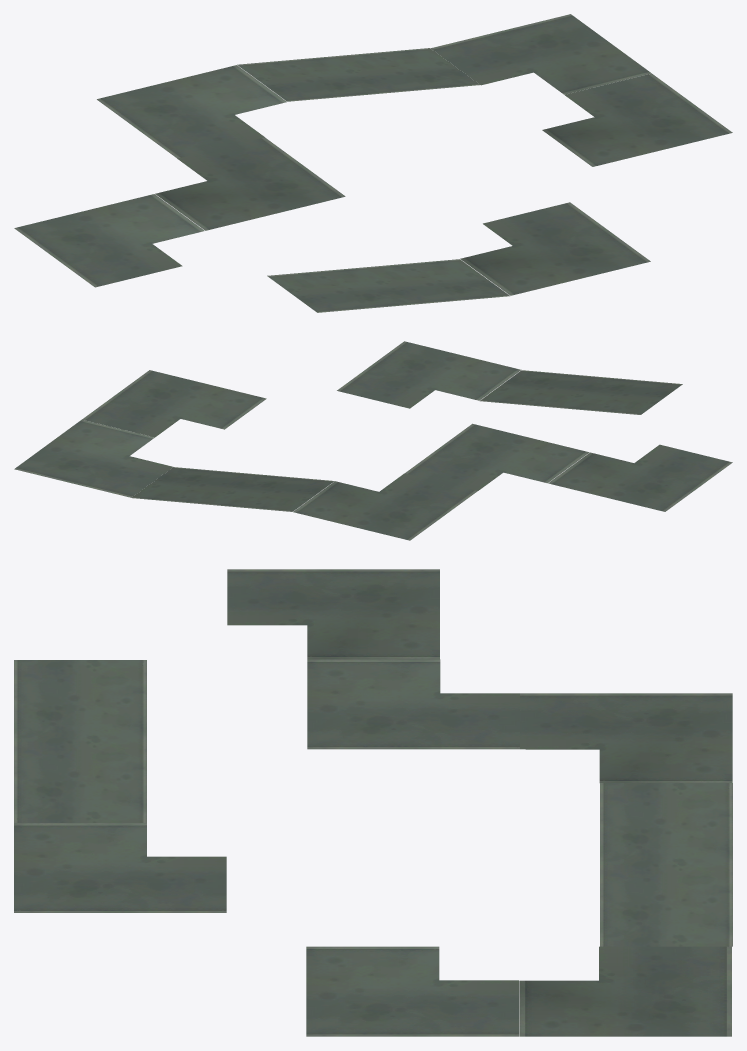
File: Combined_Mesh_root_scene__4_e0ea2853__zombies2_diffuse_10_bd9ff187_c1f257.obj
3 renders of one model, top to bottom at view 1: azimuth 30°, elevation 25°; view 2: azimuth 150°, elevation 25°; view 3: azimuth 270°, elevation 25°, orthographic. The views are drawn at different scales.
Size of the model in its own units: 69.19 by 3.05 by 49.16.
Materials: 8 (8 with a texture image).
